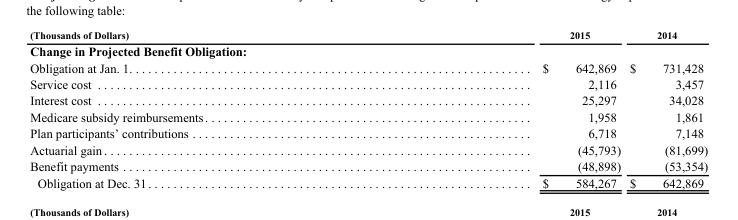table: (29, 28, 707, 189)
table column: (29, 28, 374, 189), (374, 28, 624, 189), (624, 28, 707, 189)
table column header: (29, 28, 707, 41)
table projected row header: (29, 41, 707, 59)
table row: (29, 41, 707, 59), (29, 91, 707, 108), (29, 124, 707, 141), (29, 157, 707, 174), (29, 59, 707, 75), (29, 75, 707, 91), (29, 108, 707, 124), (29, 141, 707, 157), (29, 174, 707, 189), (29, 28, 707, 41)
